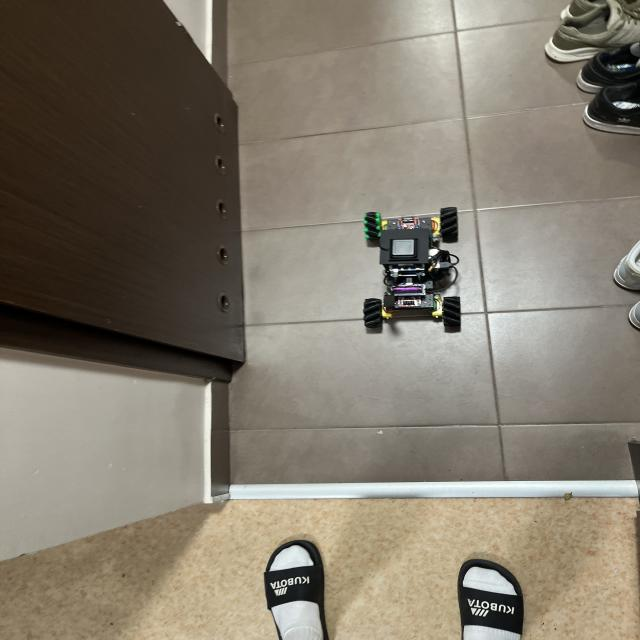robot: (363, 207, 461, 328)
